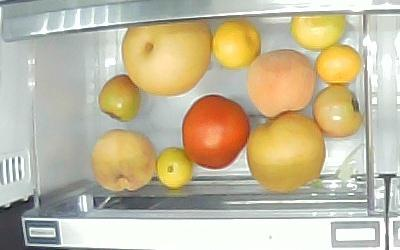peach: (246, 49, 315, 116), (92, 128, 157, 192)
pear: (121, 19, 212, 96), (246, 111, 326, 192)
persimmon: (312, 85, 363, 137), (99, 75, 142, 123)
tangerine: (213, 19, 261, 69), (291, 15, 348, 51), (315, 44, 361, 85), (156, 147, 192, 190)
tomato: (182, 95, 250, 170)
